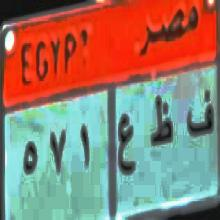1: (75, 119, 95, 173)
5: (20, 135, 40, 184)
7: (46, 122, 68, 178)
Thaa: (149, 88, 175, 156)
ain: (116, 104, 140, 188)
faa: (184, 89, 216, 150)
